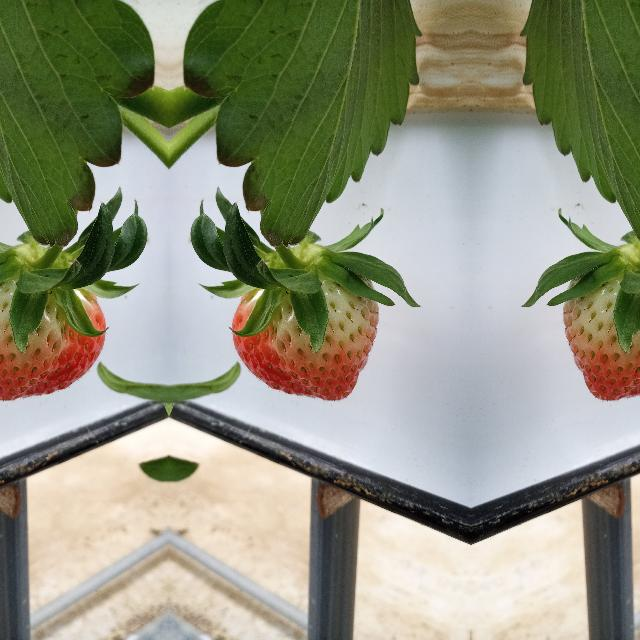Health_75: (230, 275, 380, 401), (0, 275, 106, 401), (561, 275, 640, 401)
